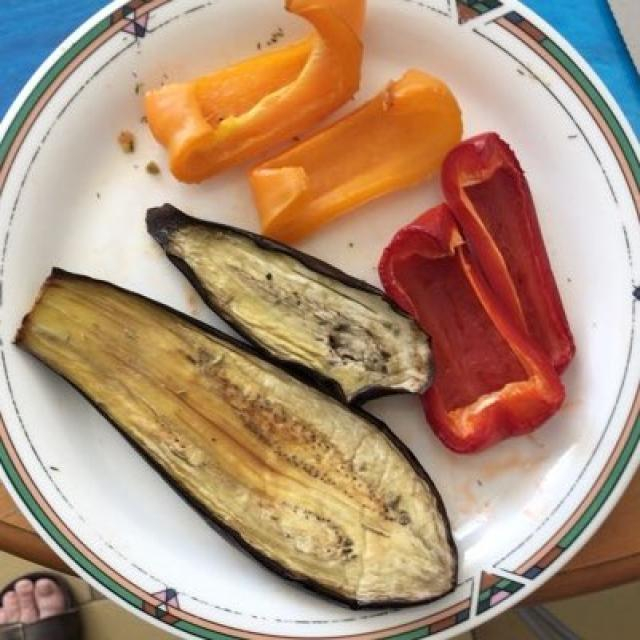bell-pepper: (156, 9, 578, 442)
eggplant: (33, 195, 458, 599)
